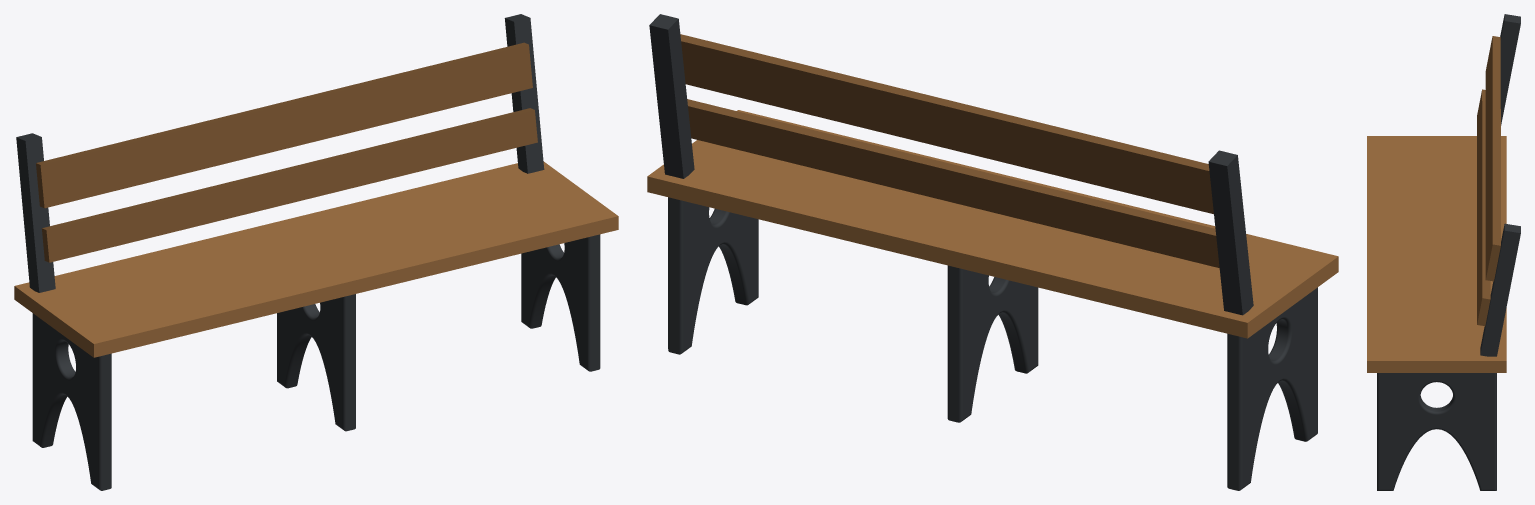
File: bench.gltf
The picture shows the model from 3 angles, left to right: view 1: azimuth 30°, elevation 25°; view 2: azimuth 150°, elevation 25°; view 3: azimuth 270°, elevation 25°; orthographic projection. The views are drawn at different scales.
Parts seen in each view (by area): view 1: seat, back slat (×2), cast frame (×3), back post (×2); view 2: back slat (×2), seat, cast frame (×3), back post (×2); view 3: seat, cast frame, back slat (×2), back post (×2).
Part boxes in pixels (x1,y1,x2,y2): seat: (14, 161, 618, 357); back slat (×2): (36, 42, 537, 262); cast frame (×3): (32, 234, 600, 490); back post (×2): (16, 14, 544, 292); back slat (×2): (680, 34, 1219, 267); seat: (647, 110, 1338, 338); cast frame (×3): (668, 197, 1317, 490); back post (×2): (649, 14, 1253, 315); seat: (1367, 136, 1506, 372); cast frame: (1377, 373, 1496, 490); back slat (×2): (1477, 36, 1500, 325); back post (×2): (1480, 14, 1520, 356).
Size of the model in its own units: 1.6 by 0.868 by 0.4626.
